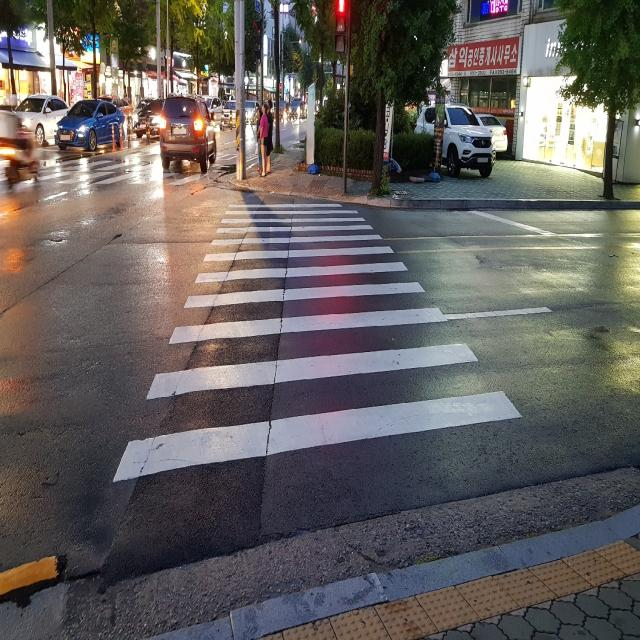빨간불: (328, 0, 349, 55)
횡단보도: (112, 201, 524, 486)
